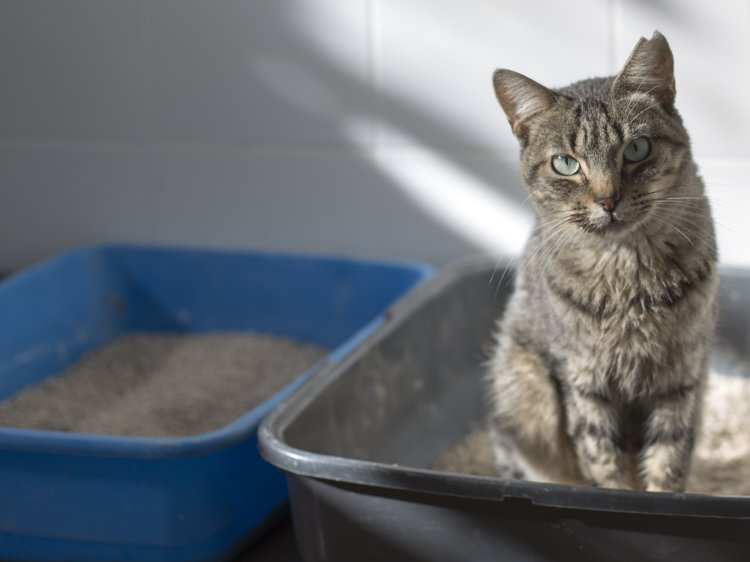cat: (492, 33, 724, 501)
